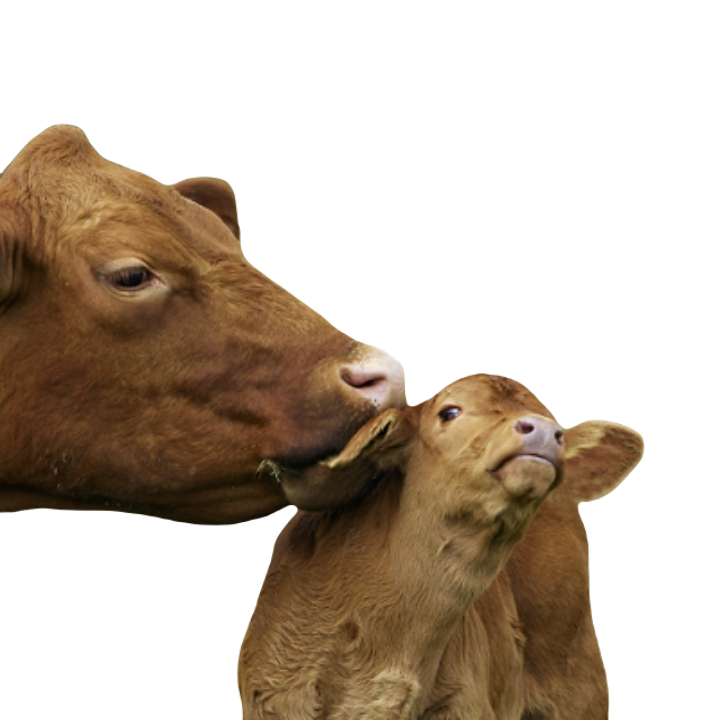Cow: (0, 123, 405, 528)
